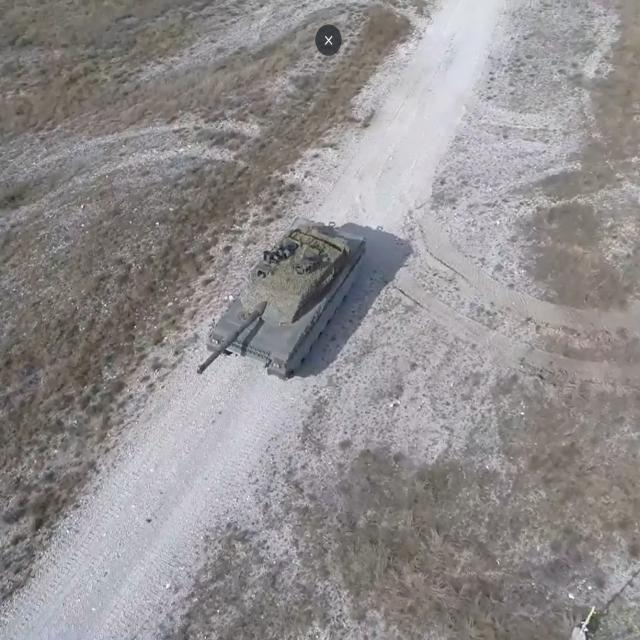tank: (194, 218, 368, 382)
